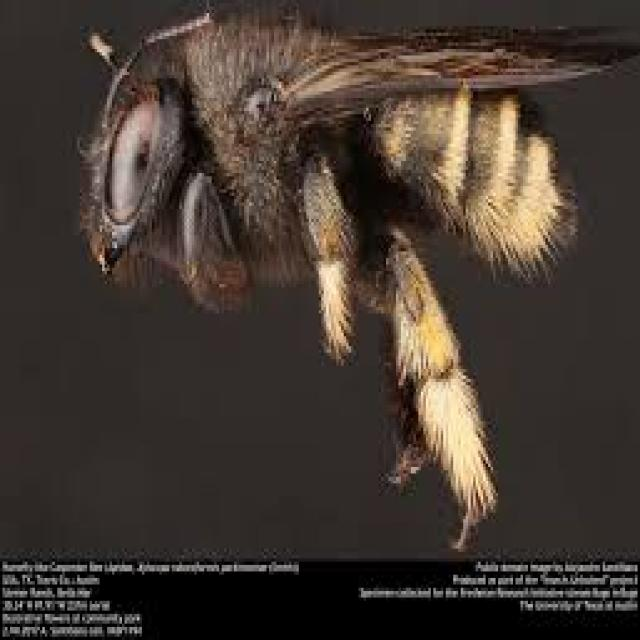Lasioglossum: (60, 10, 612, 530)
